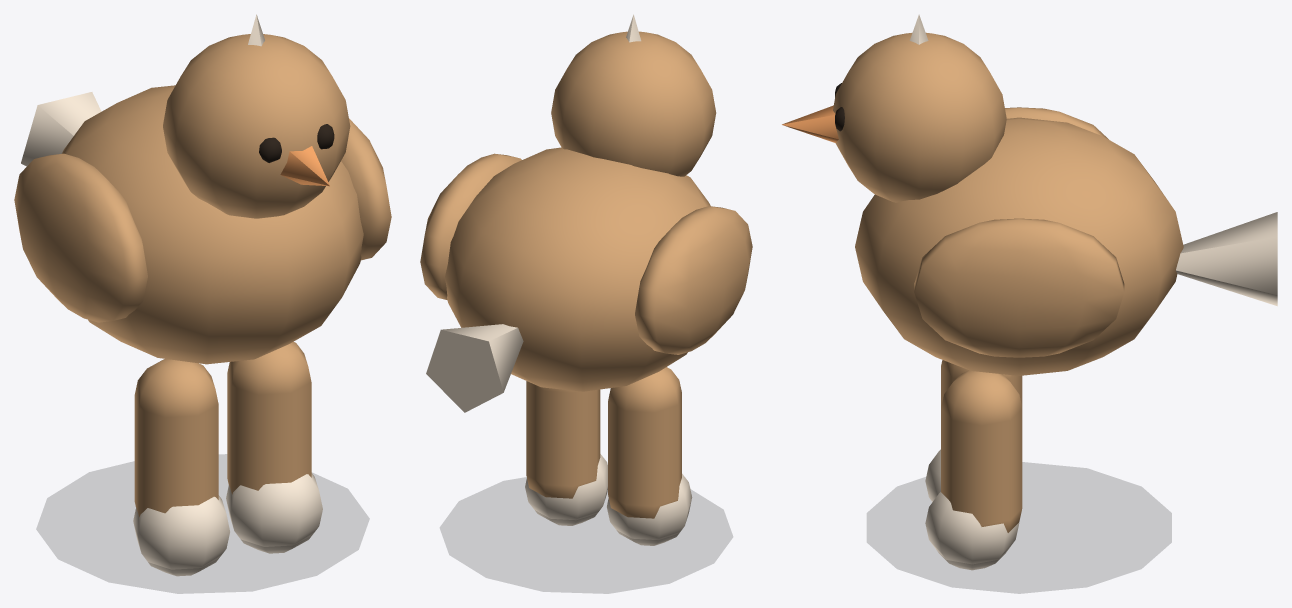
Rendered from bird.glb.
The picture shows the model from 3 angles, left to right: view 1: azimuth 30°, elevation 25°; view 2: azimuth 150°, elevation 25°; view 3: azimuth 270°, elevation 25°; orthographic projection. The views are drawn at different scales.
Parts seen in each view (by area): view 1: object 3, Head, object 8, Leg_0, Leg_1, Leg_2, Leg_3, Tail; view 2: object 3, object 8, Head, Leg_2, Leg_0, Leg_1, Tail, Leg_3; view 3: object 3, Head, Leg_3, object 8, Leg_1, Tail, Leg_0, Leg_2.
Part boxes in pixels (bbox=[...]): object 3: bbox=[62, 85, 363, 364]; Head: bbox=[163, 14, 350, 218]; object 8: bbox=[36, 454, 369, 593]; Leg_0: bbox=[133, 359, 229, 576]; Leg_1: bbox=[226, 341, 322, 553]; Leg_2: bbox=[14, 153, 147, 322]; Leg_3: bbox=[341, 118, 391, 260]; Tail: bbox=[21, 92, 101, 166]; object 3: bbox=[445, 147, 710, 391]; object 8: bbox=[440, 477, 732, 593]; Head: bbox=[551, 14, 716, 176]; Leg_2: bbox=[635, 206, 752, 354]; Leg_0: bbox=[607, 367, 692, 545]; Leg_1: bbox=[525, 381, 607, 525]; Tail: bbox=[426, 324, 523, 412]; Leg_3: bbox=[420, 153, 521, 299]; object 3: bbox=[855, 117, 1183, 375]; Head: bbox=[782, 14, 1006, 202]; Leg_3: bbox=[914, 218, 1124, 357]; object 8: bbox=[867, 462, 1171, 593]; Leg_1: bbox=[925, 370, 1022, 570]; Tail: bbox=[1176, 212, 1277, 306]; Leg_0: bbox=[925, 360, 1022, 501]; Leg_2: bbox=[1005, 107, 1108, 139].
Size of the model in its own units: 10.82 by 18.7 by 15.85.
